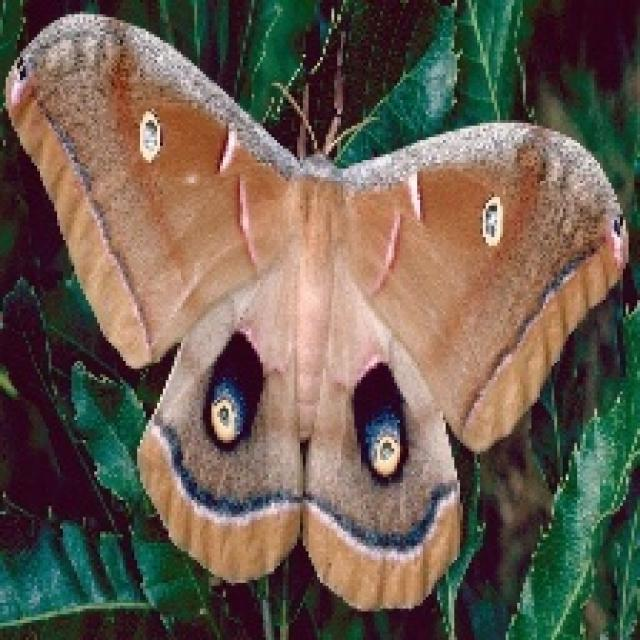butterfly: (0, 8, 631, 611)
